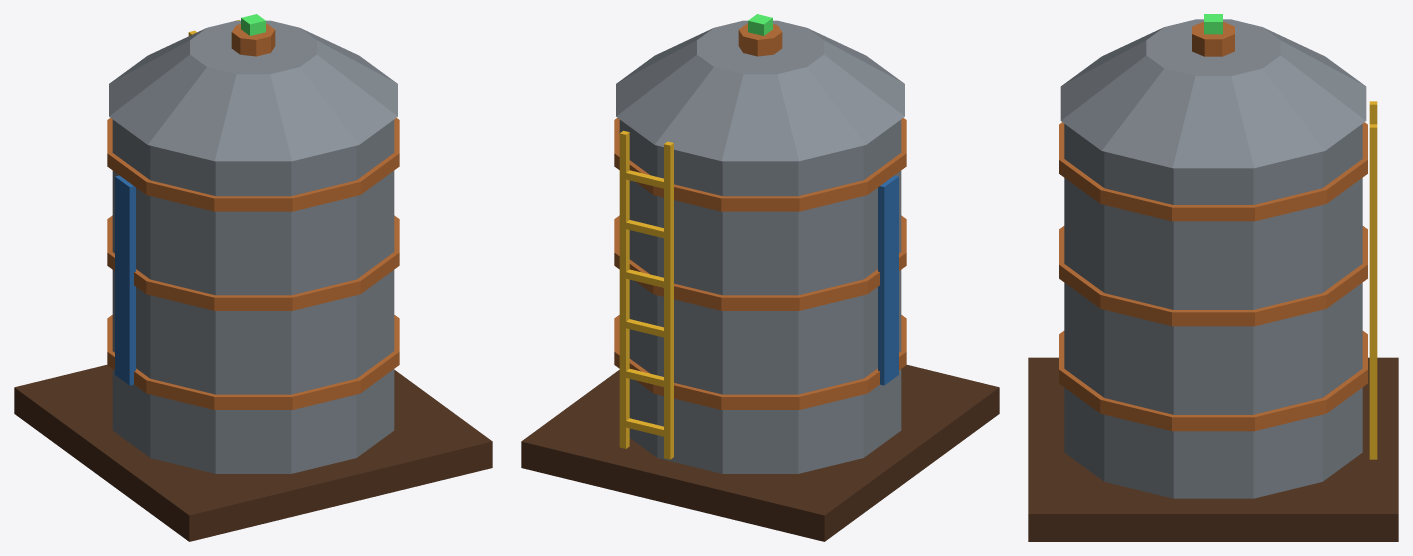
File: fluid_storage_tank.obj
The picture shows the model from 3 angles, left to right: view 1: azimuth 30°, elevation 25°; view 2: azimuth 150°, elevation 25°; view 3: azimuth 270°, elevation 25°; orthographic projection. The views are drawn at different scales.
Parts seen in each view (by area): view 1: Tank, Body; view 2: Tank, Body, Ladder; view 3: Tank, Body, Ladder.
Part boxes in pixels (x1,y1,x2,y2): Tank: [107, 20, 399, 473]; Body: [14, 365, 492, 541]; Tank: [614, 20, 906, 473]; Body: [521, 365, 999, 541]; Ladder: [619, 130, 673, 459]; Tank: [1059, 19, 1367, 498]; Body: [1028, 357, 1398, 541]; Ladder: [1369, 101, 1377, 459].
Bounding box in the file's own units: 0.96 × 1.27 × 0.96.
